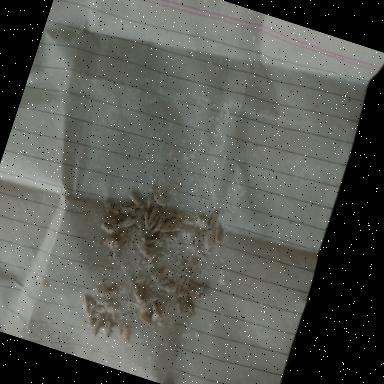pbw: (170, 295, 188, 322), (183, 286, 208, 304), (98, 281, 119, 302), (100, 198, 122, 218), (152, 206, 168, 232), (89, 312, 105, 338), (149, 187, 169, 207), (158, 216, 178, 236), (116, 212, 136, 231), (175, 282, 195, 301), (77, 293, 94, 314), (100, 316, 115, 339), (186, 282, 208, 297), (109, 207, 128, 224), (146, 203, 160, 226), (150, 264, 167, 282), (132, 201, 148, 220), (119, 324, 134, 344), (143, 231, 160, 248), (180, 302, 196, 320), (128, 289, 146, 305), (212, 221, 225, 243), (206, 208, 219, 230), (159, 279, 178, 294), (139, 210, 153, 230), (137, 310, 154, 326), (118, 203, 136, 217), (98, 222, 116, 236), (97, 232, 111, 249), (148, 249, 160, 268), (127, 191, 142, 206), (162, 208, 179, 220), (85, 304, 96, 322), (102, 214, 118, 226), (144, 194, 154, 210), (87, 315, 98, 327), (150, 311, 158, 322)
